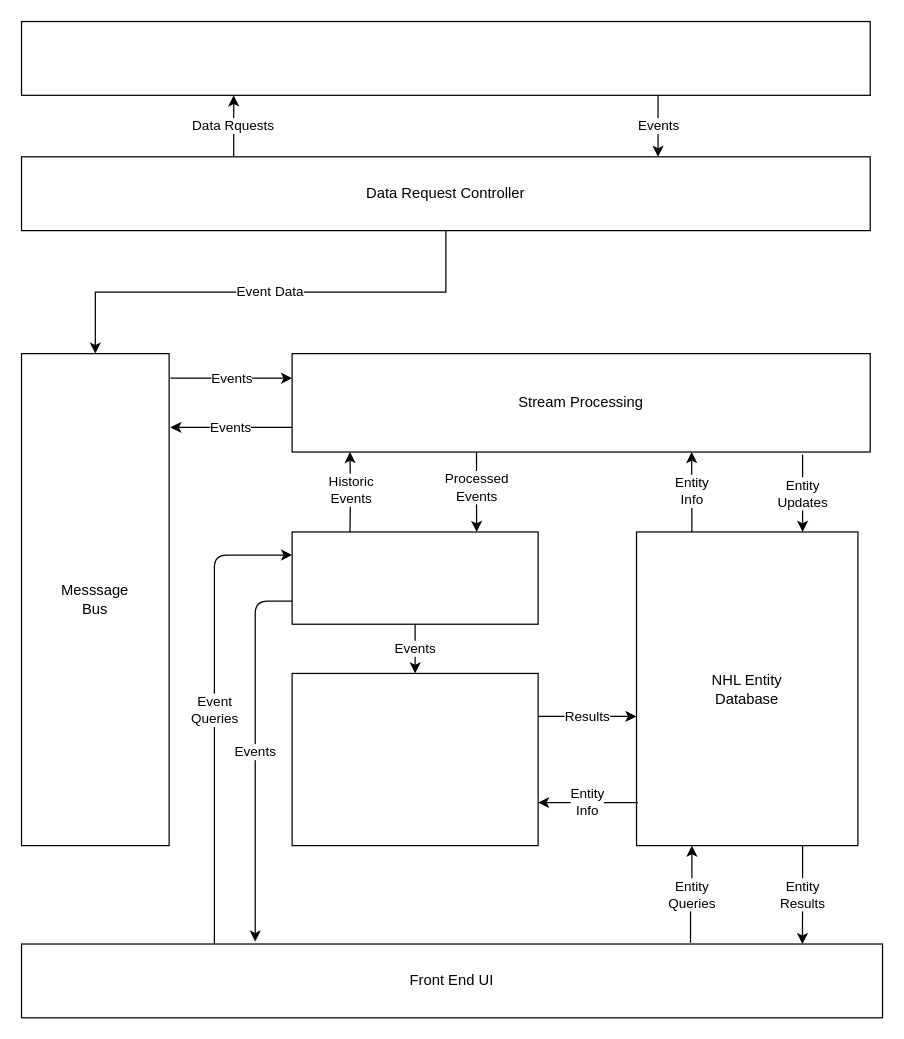
Some shapes in this 904 by 1039 pixel diagram are drawn without their labels. The shapes that lost their labels are listed below. From the top down, each one's centre as x and y in pixels, then its label:
pixel 445 57: NHL Web Sever
pixel 414 577: Event Store
pixel 414 759: Batch Processors
